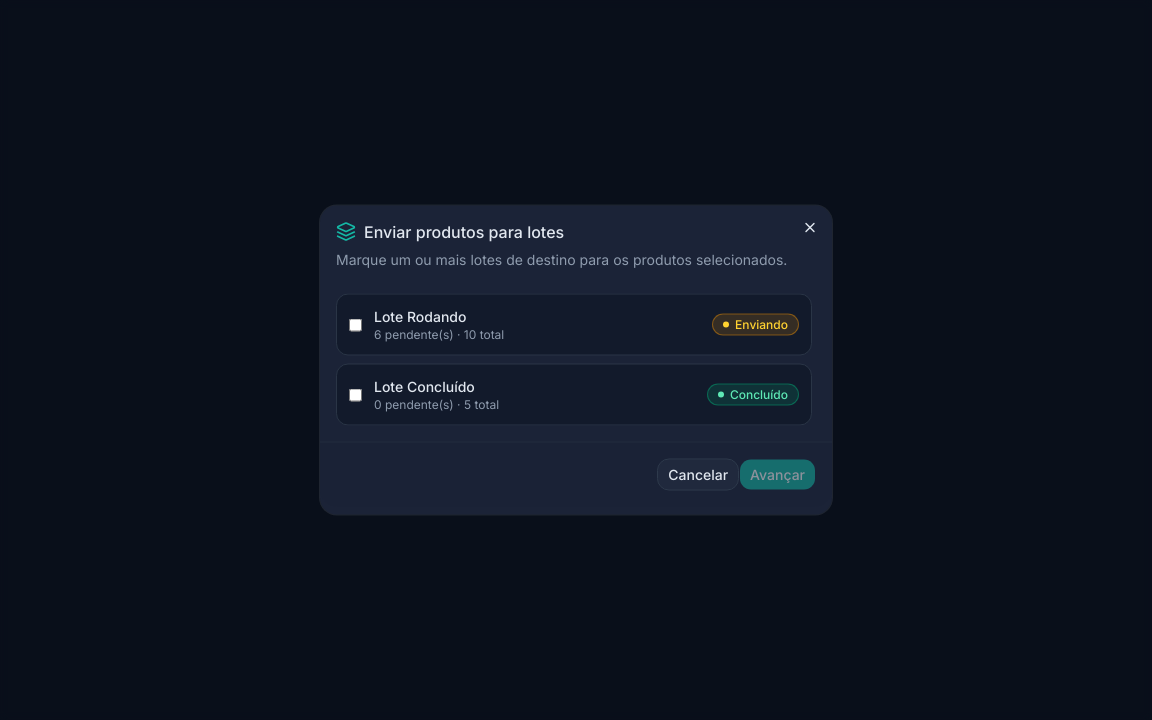
Scenario: SendToBatchDialog › avança para o passo 2 ao selecionar um lote e mostra resumo
Step 1. Click the checkbox labelled "Lote Rodando 6 pendente(s) · 10 total Enviando" → (356, 324), box [349,318,362,331]
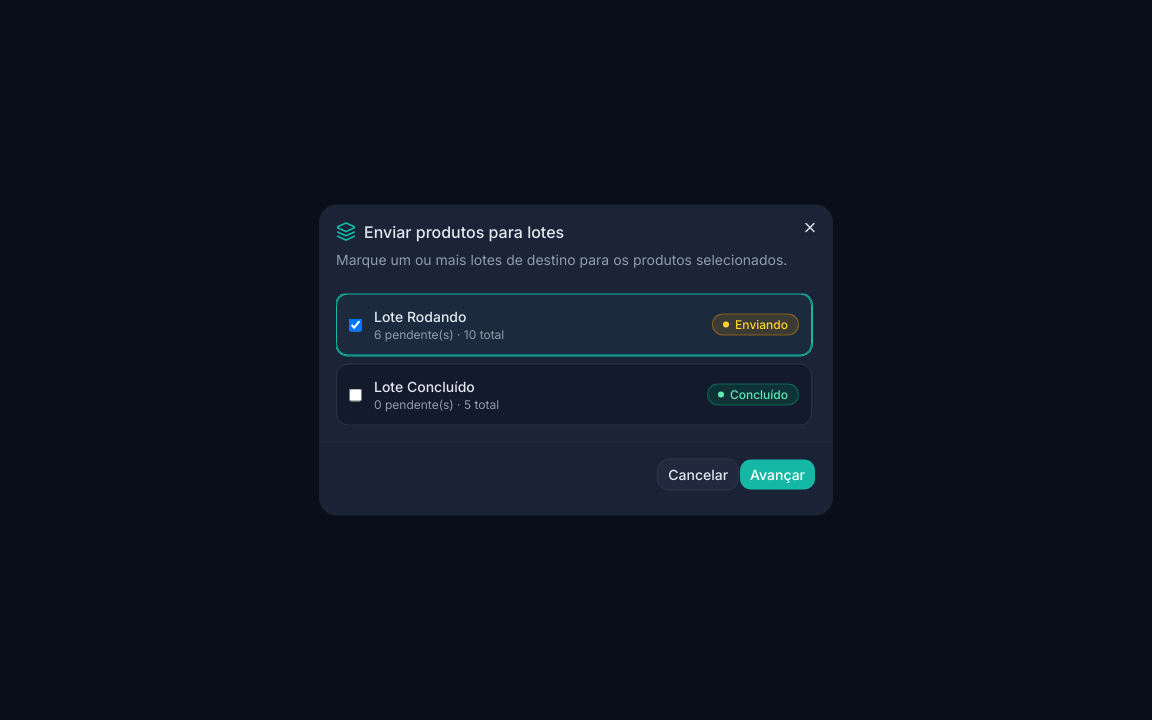
expect the button "Avançar" is enabled: met
Step 2. Click the button "Avançar" → (778, 474), box [739,458,816,490]
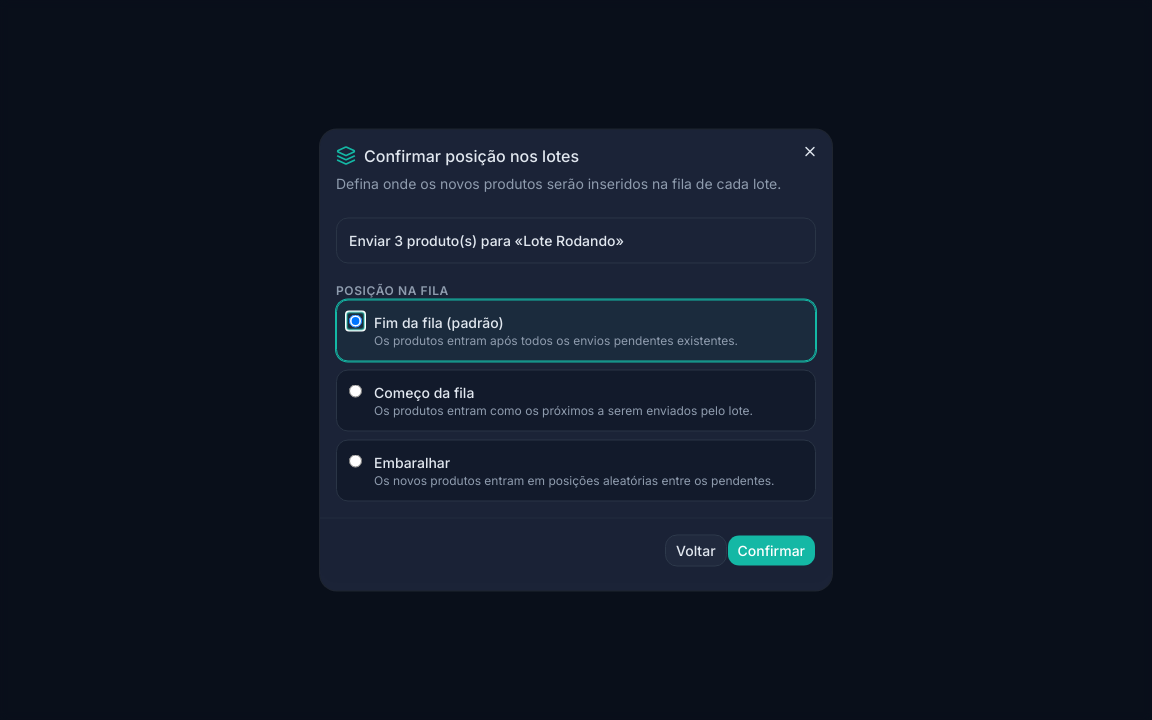
expect the text "Enviar 3 produto(s) para «Lote Rodando»" is shown: met, box [336,218,816,264]
